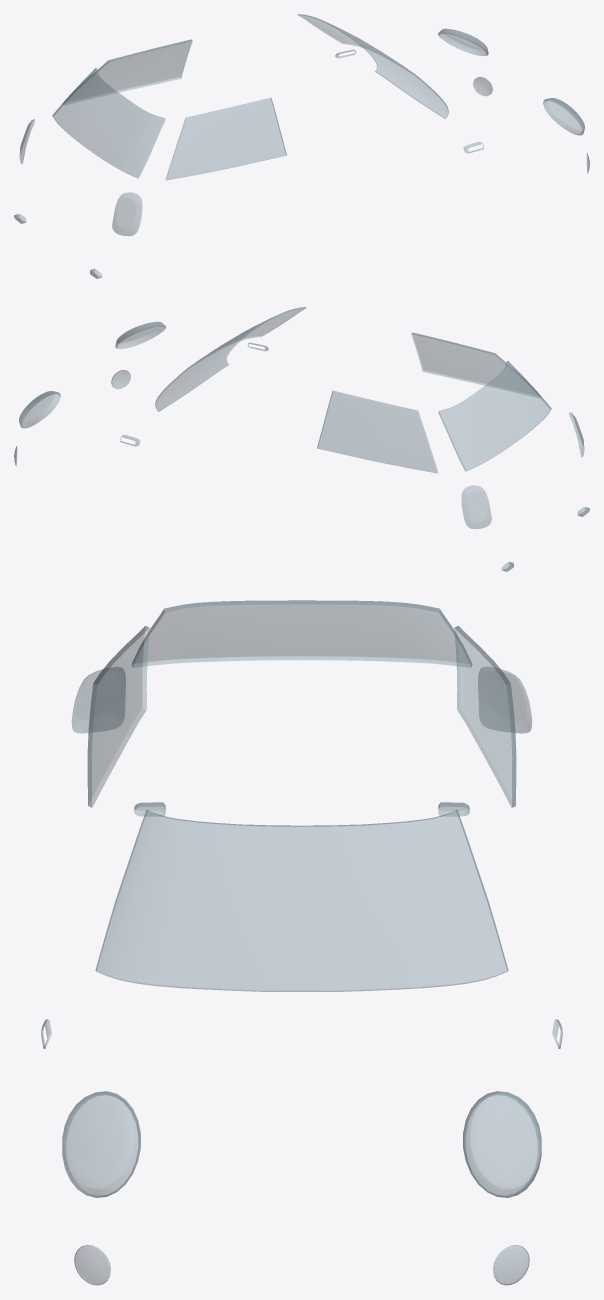
3 views of the same model, one above another, from view 1: azimuth 30°, elevation 25°; view 2: azimuth 150°, elevation 25°; view 3: azimuth 270°, elevation 25° (orthographic). The views are drawn at different scales.
Parts seen in each view (by area): view 1: SM_MiniCooper_Glass_Ext1; view 2: SM_MiniCooper_Glass_Ext1; view 3: SM_MiniCooper_Glass_Ext1.
Boxes of the visible parts, left/top/right/bottom form: SM_MiniCooper_Glass_Ext1: left=14, top=14, right=589, bottom=278; SM_MiniCooper_Glass_Ext1: left=14, top=307, right=589, bottom=571; SM_MiniCooper_Glass_Ext1: left=41, top=600, right=562, bottom=1285.
Size of the model in its own units: 4.35 by 1.2 by 2.03.
